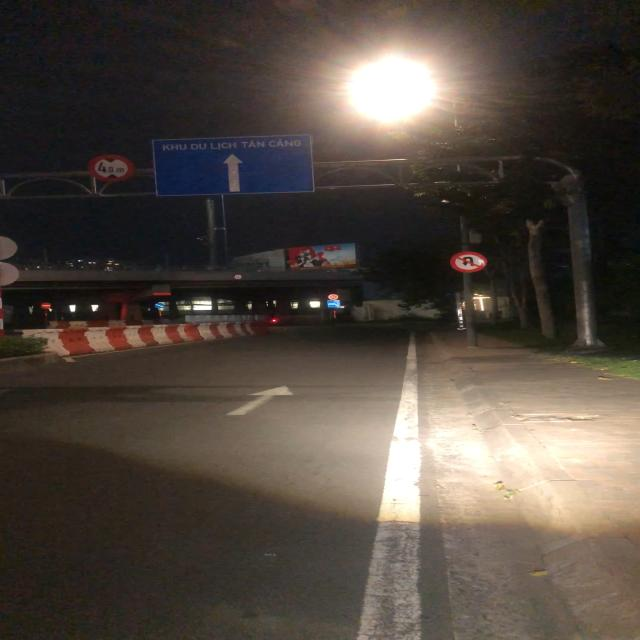Bien bao cam quay dau xe: (448, 250, 489, 275)
Bien bao han che chieu cao: (85, 153, 136, 185)
